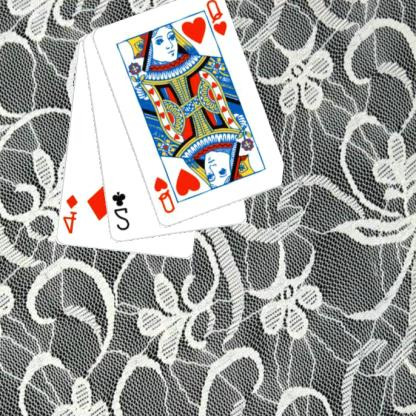2C: (110, 189, 132, 232)
4D: (62, 192, 81, 235)
QH: (202, 0, 230, 45), (152, 174, 178, 215)
